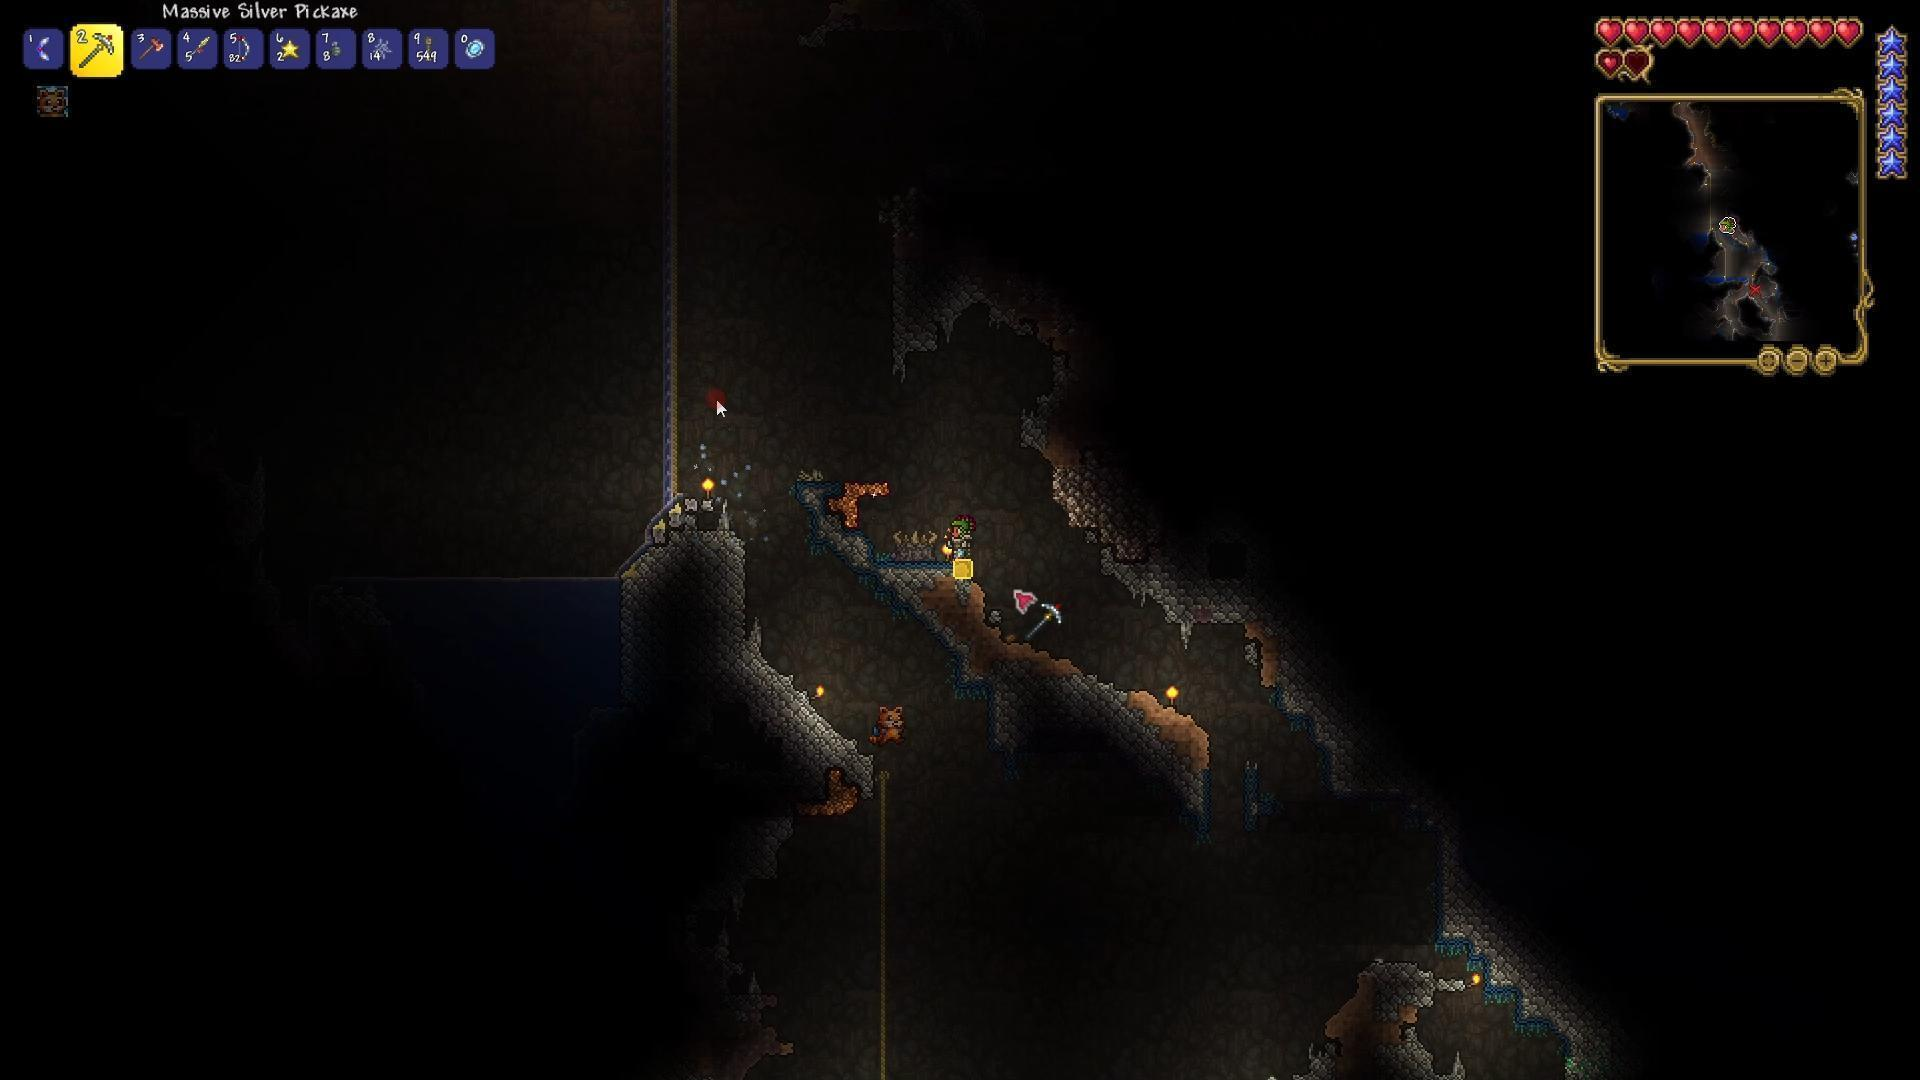altar: (887, 526, 936, 567)
cobwebI: (372, 37, 392, 61)
